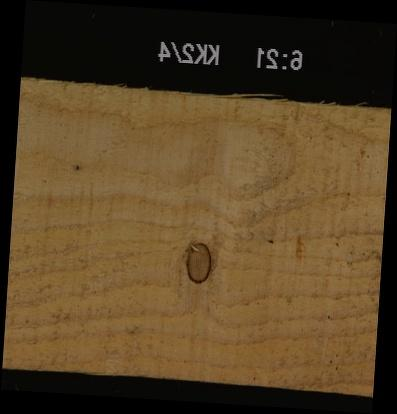dry_knot: (183, 240, 213, 283)
small_knot: (74, 161, 80, 171)
